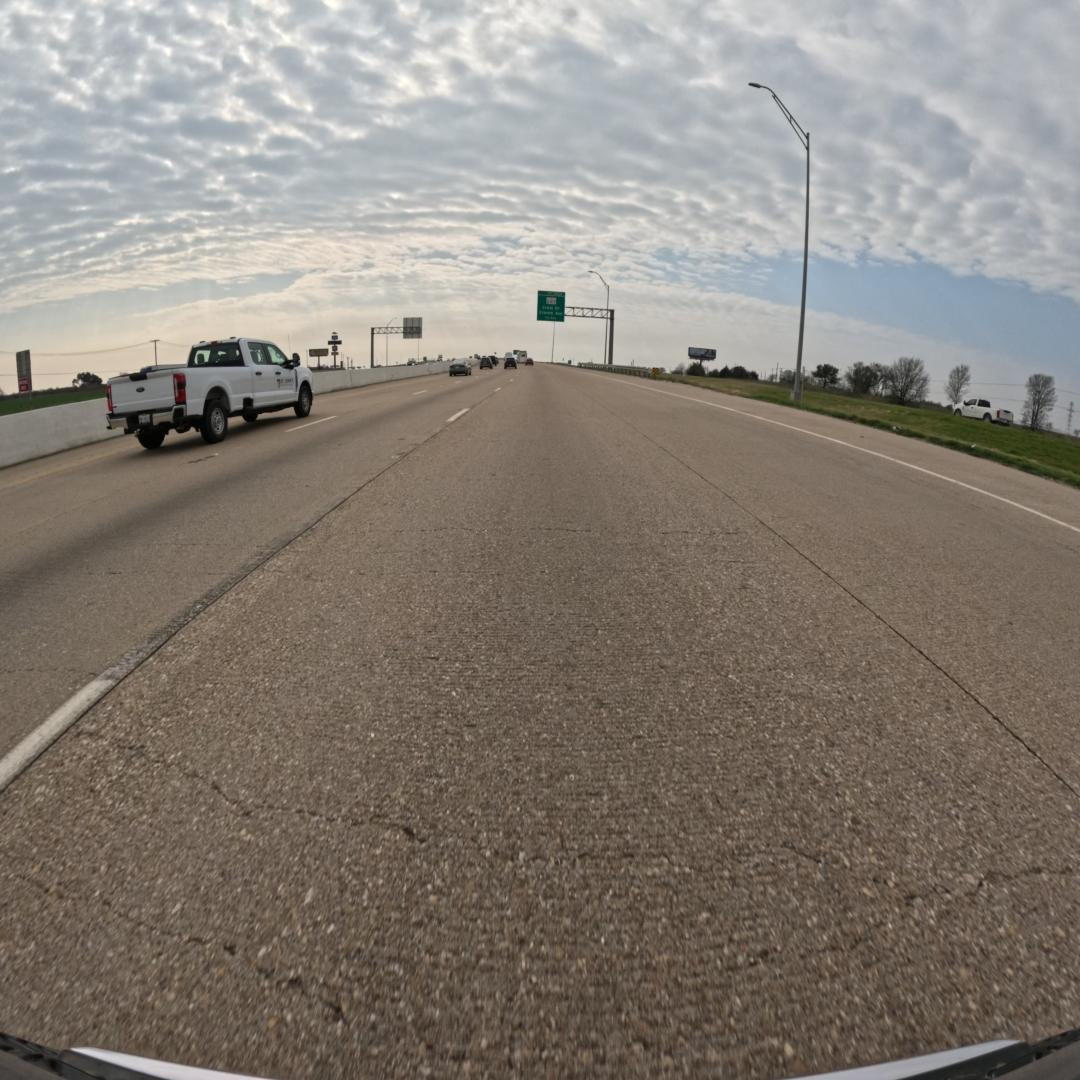lane0: (0, 371, 1080, 1077)
lane1: (0, 374, 505, 790)
